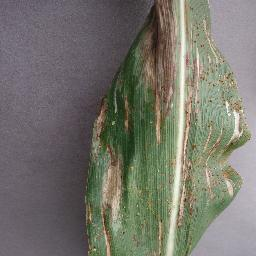Corn_Blight: (134, 0, 208, 145), (81, 60, 131, 256), (209, 33, 251, 228), (167, 146, 206, 256), (133, 193, 166, 255)
